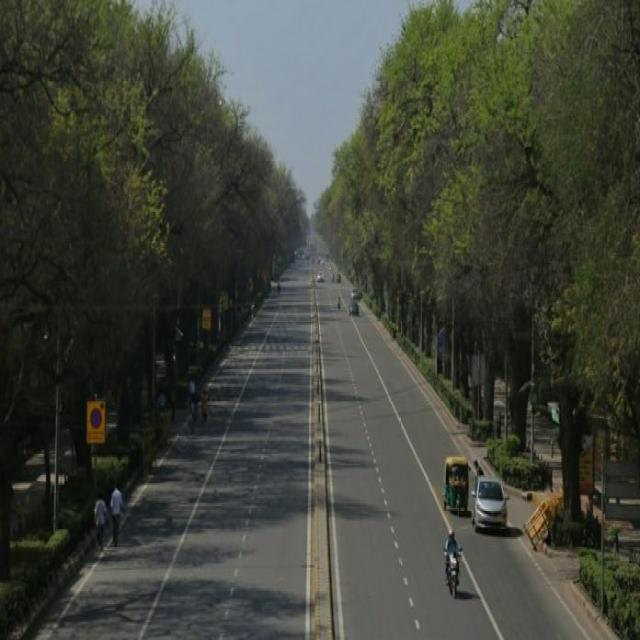Clean road: (0, 314, 640, 640)
